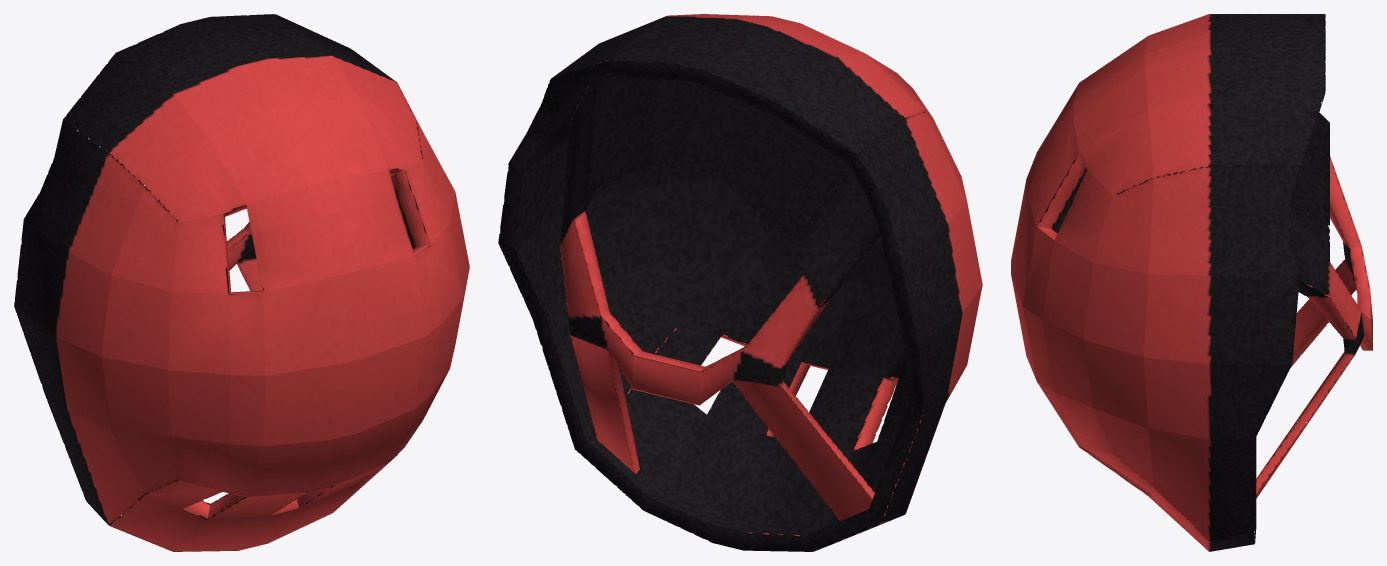
Rendered from HelmetShield_Red.fbx.
3 views of the same model, side by side, from view 1: azimuth 30°, elevation 25°; view 2: azimuth 150°, elevation 25°; view 3: azimuth 270°, elevation 25° (orthographic). The views are drawn at different scales.
Visible parts, largest first — view 1: helmet shield; view 2: helmet shield; view 3: helmet shield.
Part boxes in pixels (x1,y1,x2,y2): helmet shield: [14, 14, 469, 551]; helmet shield: [498, 14, 982, 551]; helmet shield: [1011, 14, 1372, 551].
Bounding box in the file's own units: 67.52 × 79.05 × 53.18.
